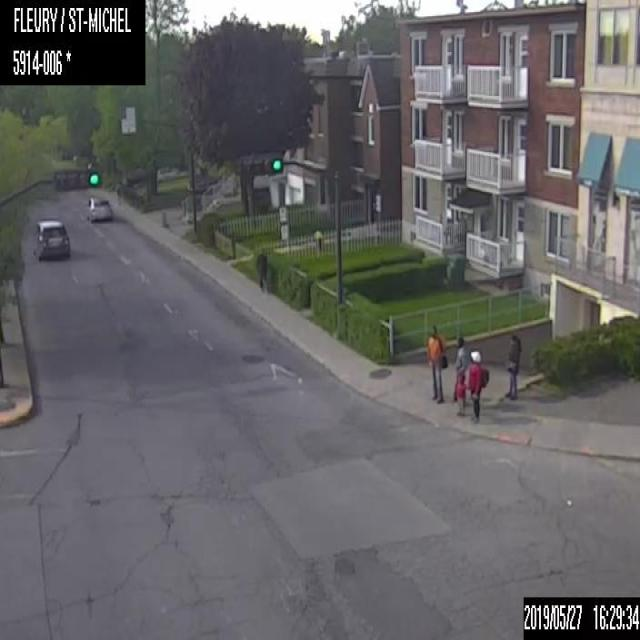pedestrian: (425, 323, 449, 405), (468, 349, 489, 422), (452, 335, 469, 401), (503, 331, 519, 397), (255, 248, 268, 291), (455, 372, 468, 414)
vehicle: (32, 218, 71, 262), (84, 195, 112, 225)
